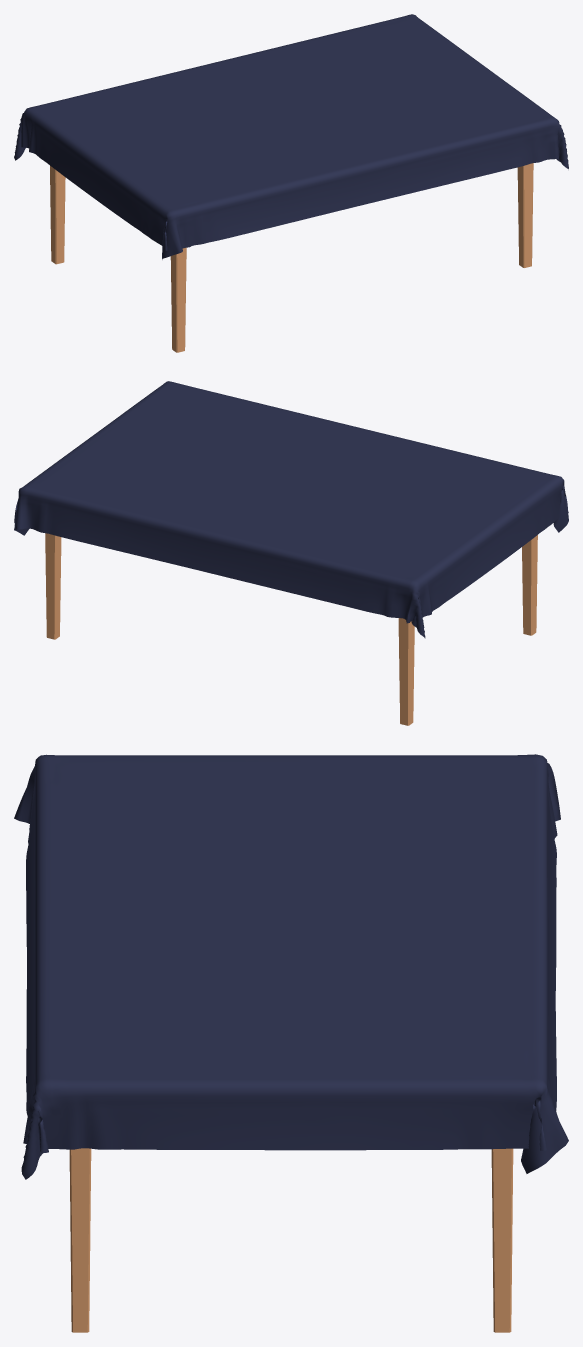
Rendered from TableCloth.fbx.
The picture shows the model from 3 angles, top to bottom: view 1: azimuth 30°, elevation 25°; view 2: azimuth 150°, elevation 25°; view 3: azimuth 270°, elevation 25°; orthographic projection. The views are drawn at different scales.
Parts seen in each view (by area): view 1: Cube.002, Cube.001; view 2: Cube.002, Cube.001; view 3: Cube.002, Cube.001.
Part boxes in pixels (x1=…): Cube.002: x1=14, y1=14, x2=568, y2=259; Cube.001: x1=50, y1=163, x2=533, y2=352; Cube.002: x1=14, y1=381, x2=568, y2=638; Cube.001: x1=45, y1=533, x2=537, y2=725; Cube.002: x1=14, y1=754, x2=568, y2=1179; Cube.001: x1=69, y1=1148, x2=513, y2=1332.
Bounding box in the file's own units: 330 × 117 × 224.
